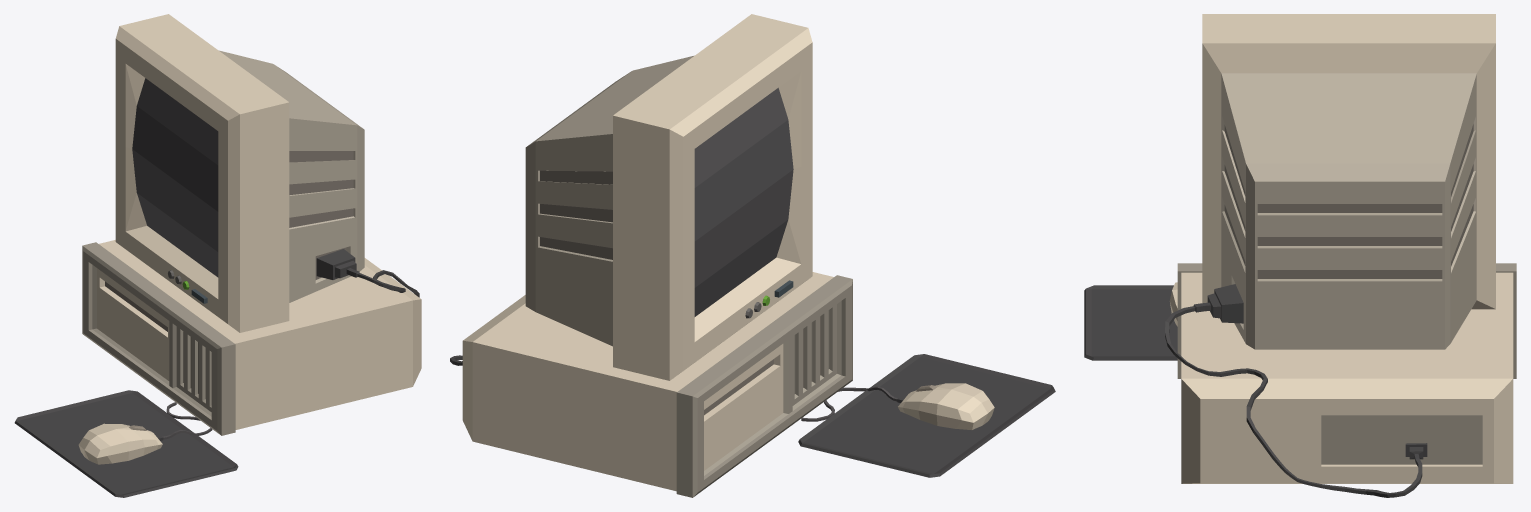
The picture shows the model from 3 angles, left to right: view 1: azimuth 30°, elevation 25°; view 2: azimuth 150°, elevation 25°; view 3: azimuth 270°, elevation 25°; orthographic projection. The views are drawn at different scales.
Parts seen in each view (by area): view 1: Monitor.002, Computer.002, MouseMat.002, Mouse.002, Cable.002; view 2: Monitor.002, Computer.002, MouseMat.002, Mouse.002; view 3: Monitor.002, Computer.002, MouseMat.002, Cable.002.
Boxes of the visible parts, bbox=[...] form: Monitor.002: bbox=[115, 14, 364, 332]; Computer.002: bbox=[82, 240, 421, 435]; MouseMat.002: bbox=[14, 390, 238, 497]; Mouse.002: bbox=[78, 402, 212, 464]; Cable.002: bbox=[316, 249, 419, 297]; Monitor.002: bbox=[525, 14, 812, 380]; Computer.002: bbox=[462, 272, 852, 497]; MouseMat.002: bbox=[798, 354, 1055, 477]; Mouse.002: bbox=[801, 383, 994, 429]; Monitor.002: bbox=[1202, 14, 1495, 349]; Computer.002: bbox=[1177, 263, 1516, 483]; MouseMat.002: bbox=[1084, 285, 1177, 360]; Cable.002: bbox=[1165, 284, 1427, 497].
Size of the model in its own units: 114 by 84 by 87.68.
Materials: 1 (1 with a texture image).
